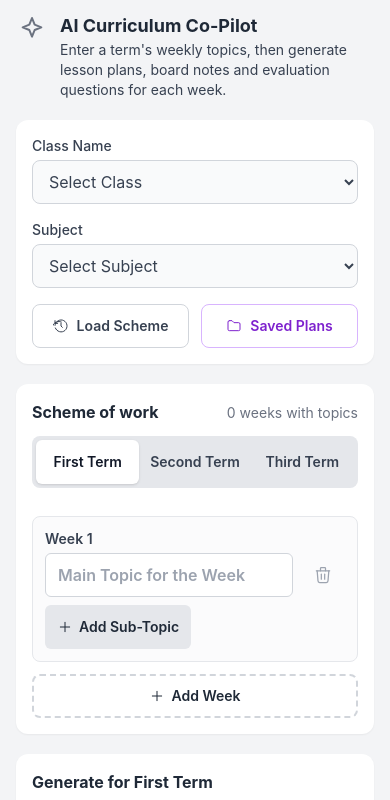
Test: LessonPlannerScreen › does not save when the saved plan cannot be re-read
Select "SSS 1 A" in the dropdown labelled "Class Name" at (195, 182), box [32,160,358,204]
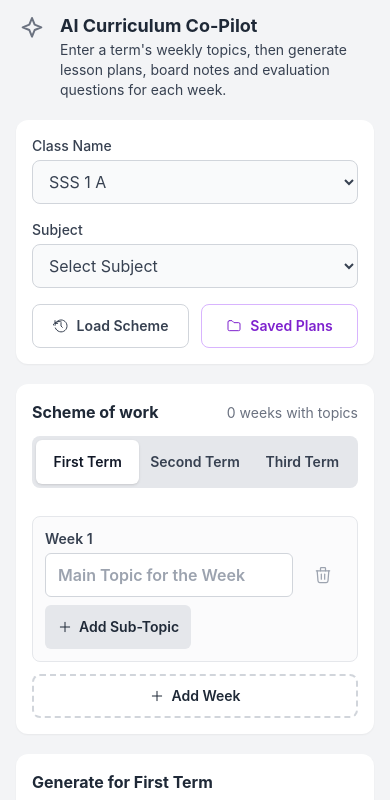
Select "Mathematics" in the dropdown labelled "Subject" at (195, 266), box [32,244,358,288]
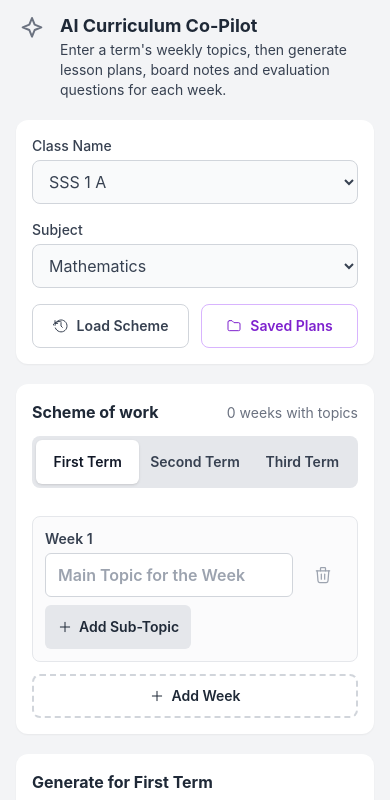
Type "Number bases" into the field with placeholder "Main Topic for the Week" at (169, 575), box [45,553,293,597]
(page scrolled)
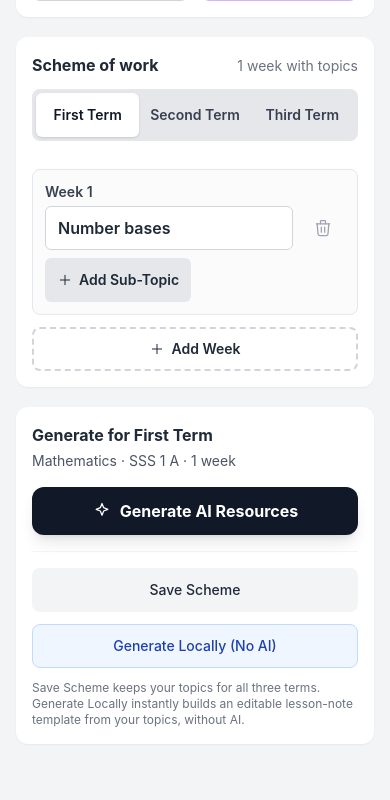
Check: the button "Generate AI Resources" is enabled
Click the button "Generate AI Resources" at (195, 511), box [32,487,358,535]
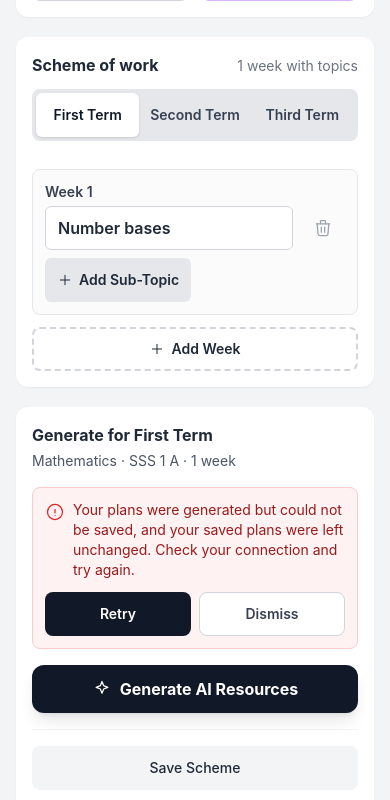
Check: the message shows "left unchanged", box [73,501,343,578]
